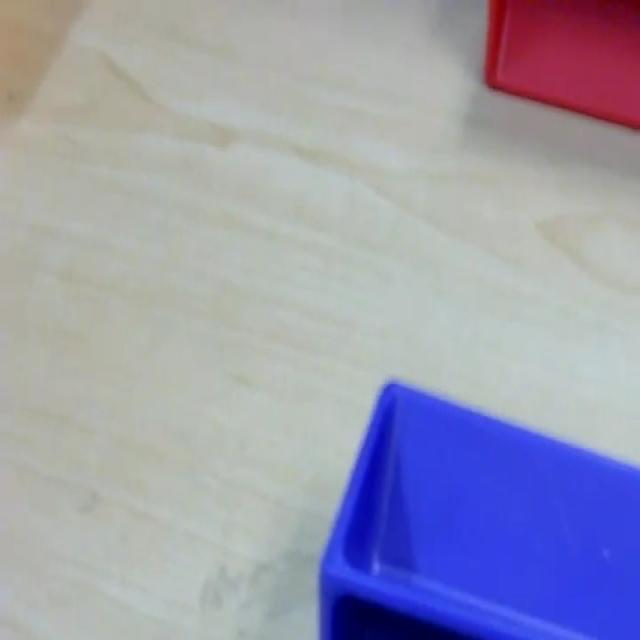blue_block: (316, 375, 638, 637)
red_block: (482, 0, 638, 131)
